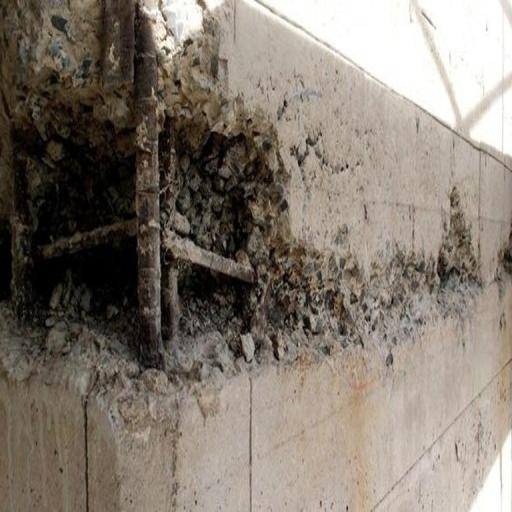spalling: (2, 8, 482, 431)
